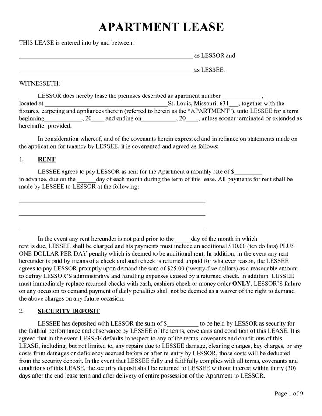textline: (16, 218, 206, 232), (17, 46, 193, 61), (17, 205, 207, 218), (17, 193, 208, 205), (16, 64, 194, 76), (44, 99, 168, 108), (221, 92, 261, 101), (44, 115, 83, 123), (233, 167, 264, 177), (166, 319, 199, 328), (142, 115, 176, 123), (76, 176, 97, 184), (174, 236, 191, 243), (185, 114, 198, 123), (91, 115, 104, 123), (229, 100, 238, 108)
